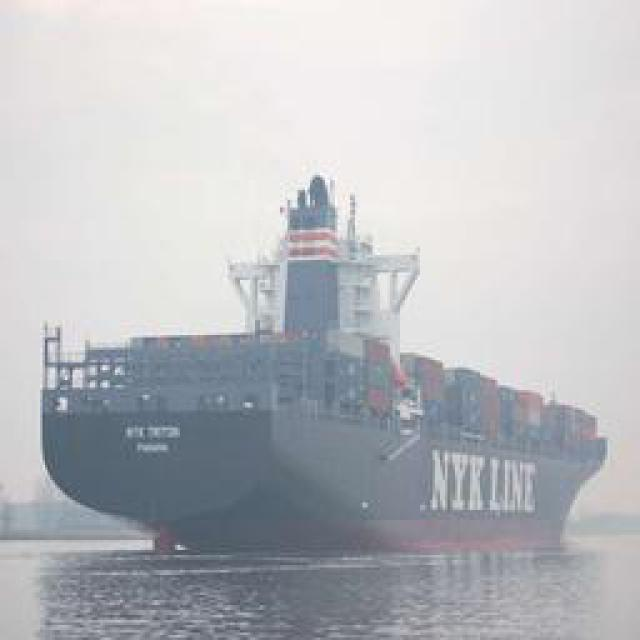Ship: (36, 174, 434, 534)
